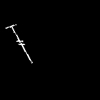treble_crochet: (7, 25, 30, 60)
